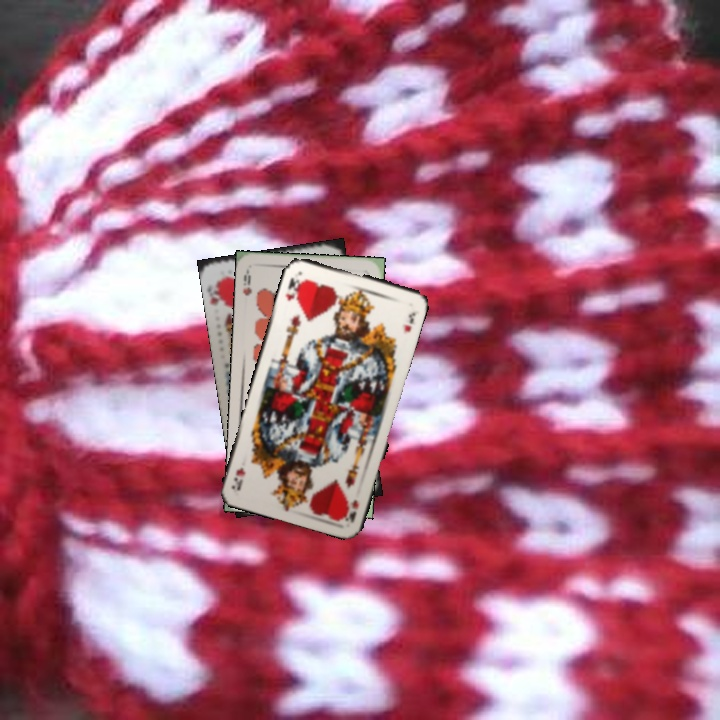H9: (239, 266, 254, 298)
HK: (281, 273, 304, 304), (341, 496, 361, 524), (206, 288, 227, 308)
